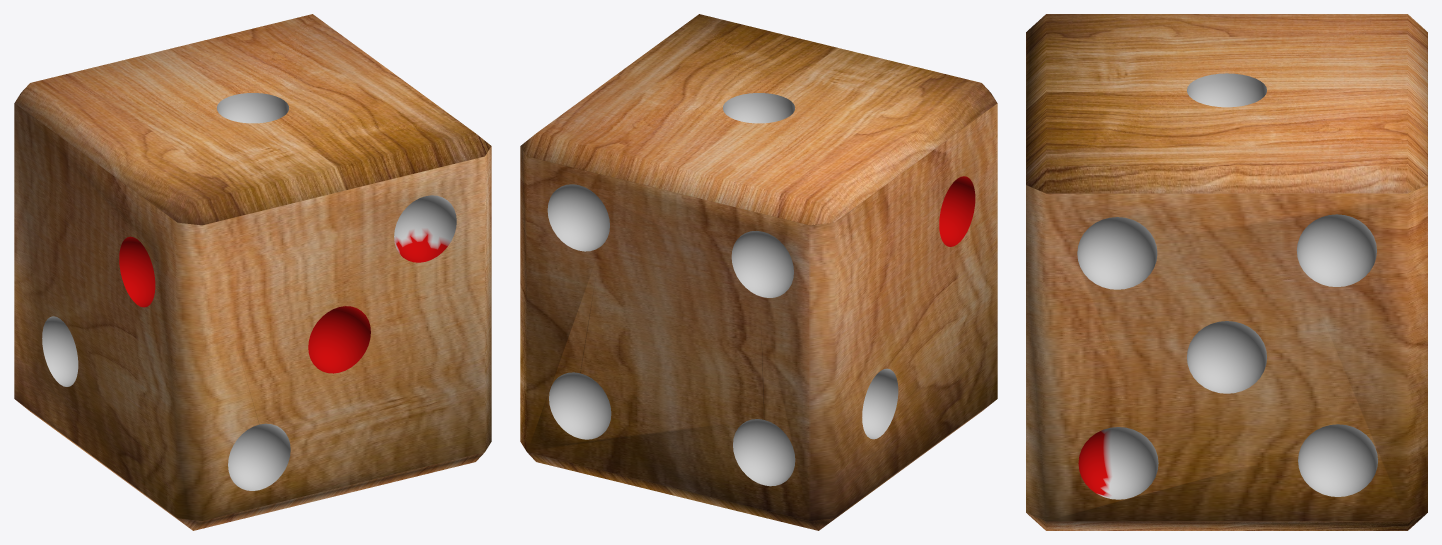
File: dice(wood).FBX
3 views of the same model, side by side, from view 1: azimuth 30°, elevation 25°; view 2: azimuth 150°, elevation 25°; view 3: azimuth 270°, elevation 25° (orthographic). The views are drawn at different scales.
Visible parts, largest first — view 1: ChamferBox001; view 2: ChamferBox001; view 3: ChamferBox001.
Boxes of the visible parts, <box> form: ChamferBox001: <box>14,14,491,530</box>; ChamferBox001: <box>520,14,997,530</box>; ChamferBox001: <box>1026,14,1427,530</box>.
Bounding box in the file's own units: 3.94 × 3.94 × 3.94.
